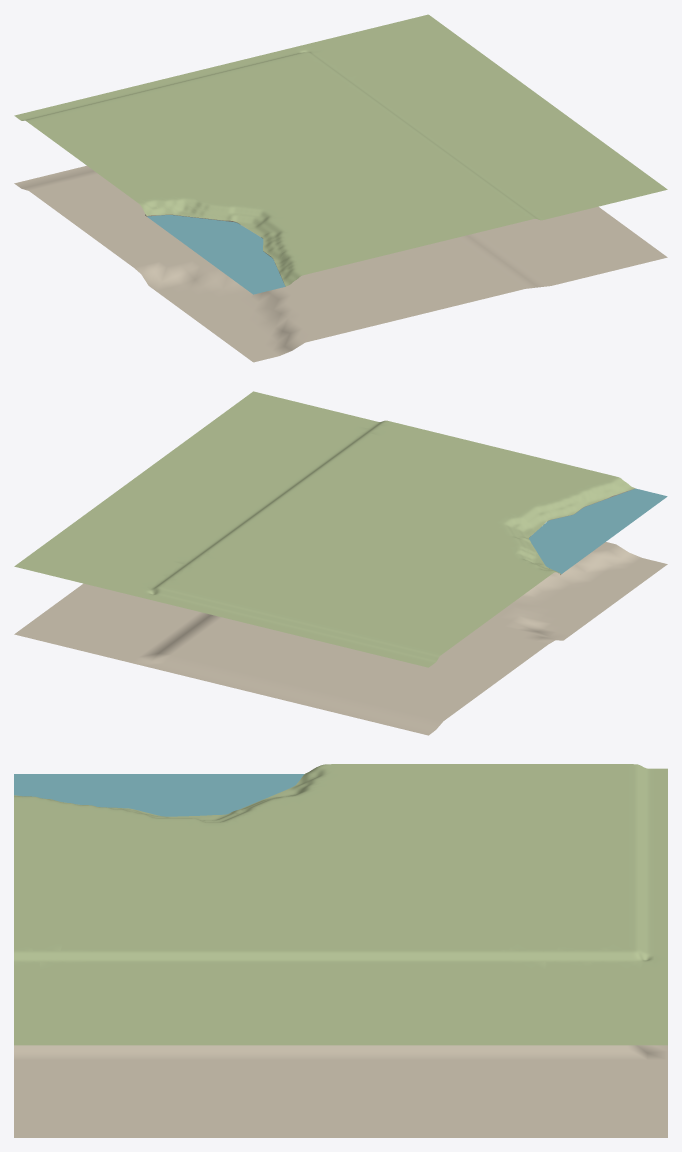
3 views of the same model, one above another, from view 1: azimuth 30°, elevation 25°; view 2: azimuth 150°, elevation 25°; view 3: azimuth 270°, elevation 25° (orthographic). The views are drawn at different scales.
Parts seen in each view (by area): view 1: s_4_-1__grass, s_4_-1__soil, s_4_-1__water; view 2: s_4_-1__grass, s_4_-1__soil, s_4_-1__water; view 3: s_4_-1__grass, s_4_-1__soil, s_4_-1__water.
Boxes of the visible parts, bbox=[...] form: s_4_-1__grass: bbox=[14, 14, 667, 286]; s_4_-1__soil: bbox=[14, 165, 667, 362]; s_4_-1__water: bbox=[147, 215, 285, 294]; s_4_-1__grass: bbox=[14, 391, 635, 667]; s_4_-1__soil: bbox=[14, 529, 667, 735]; s_4_-1__water: bbox=[529, 488, 667, 573]; s_4_-1__grass: bbox=[14, 764, 667, 1045]; s_4_-1__soil: bbox=[14, 1045, 667, 1137]; s_4_-1__water: bbox=[14, 774, 304, 816].
Size of the model in its own units: 128 by 22.14 by 128.
